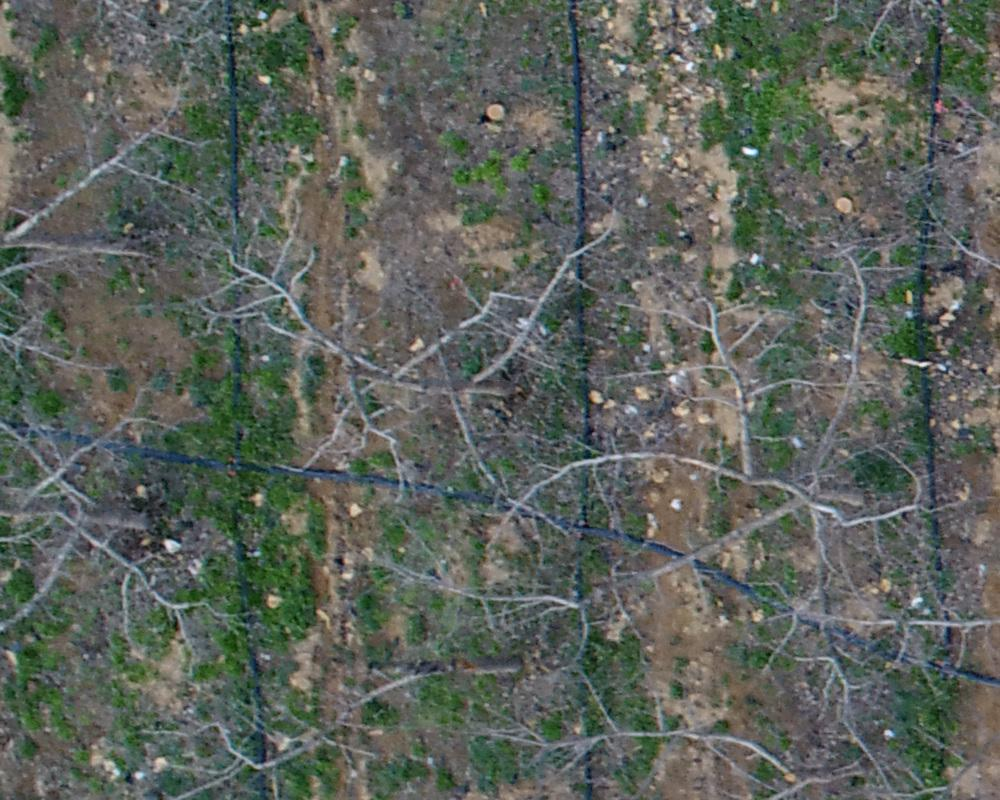apple: (458, 233, 958, 783), (179, 196, 621, 555)
